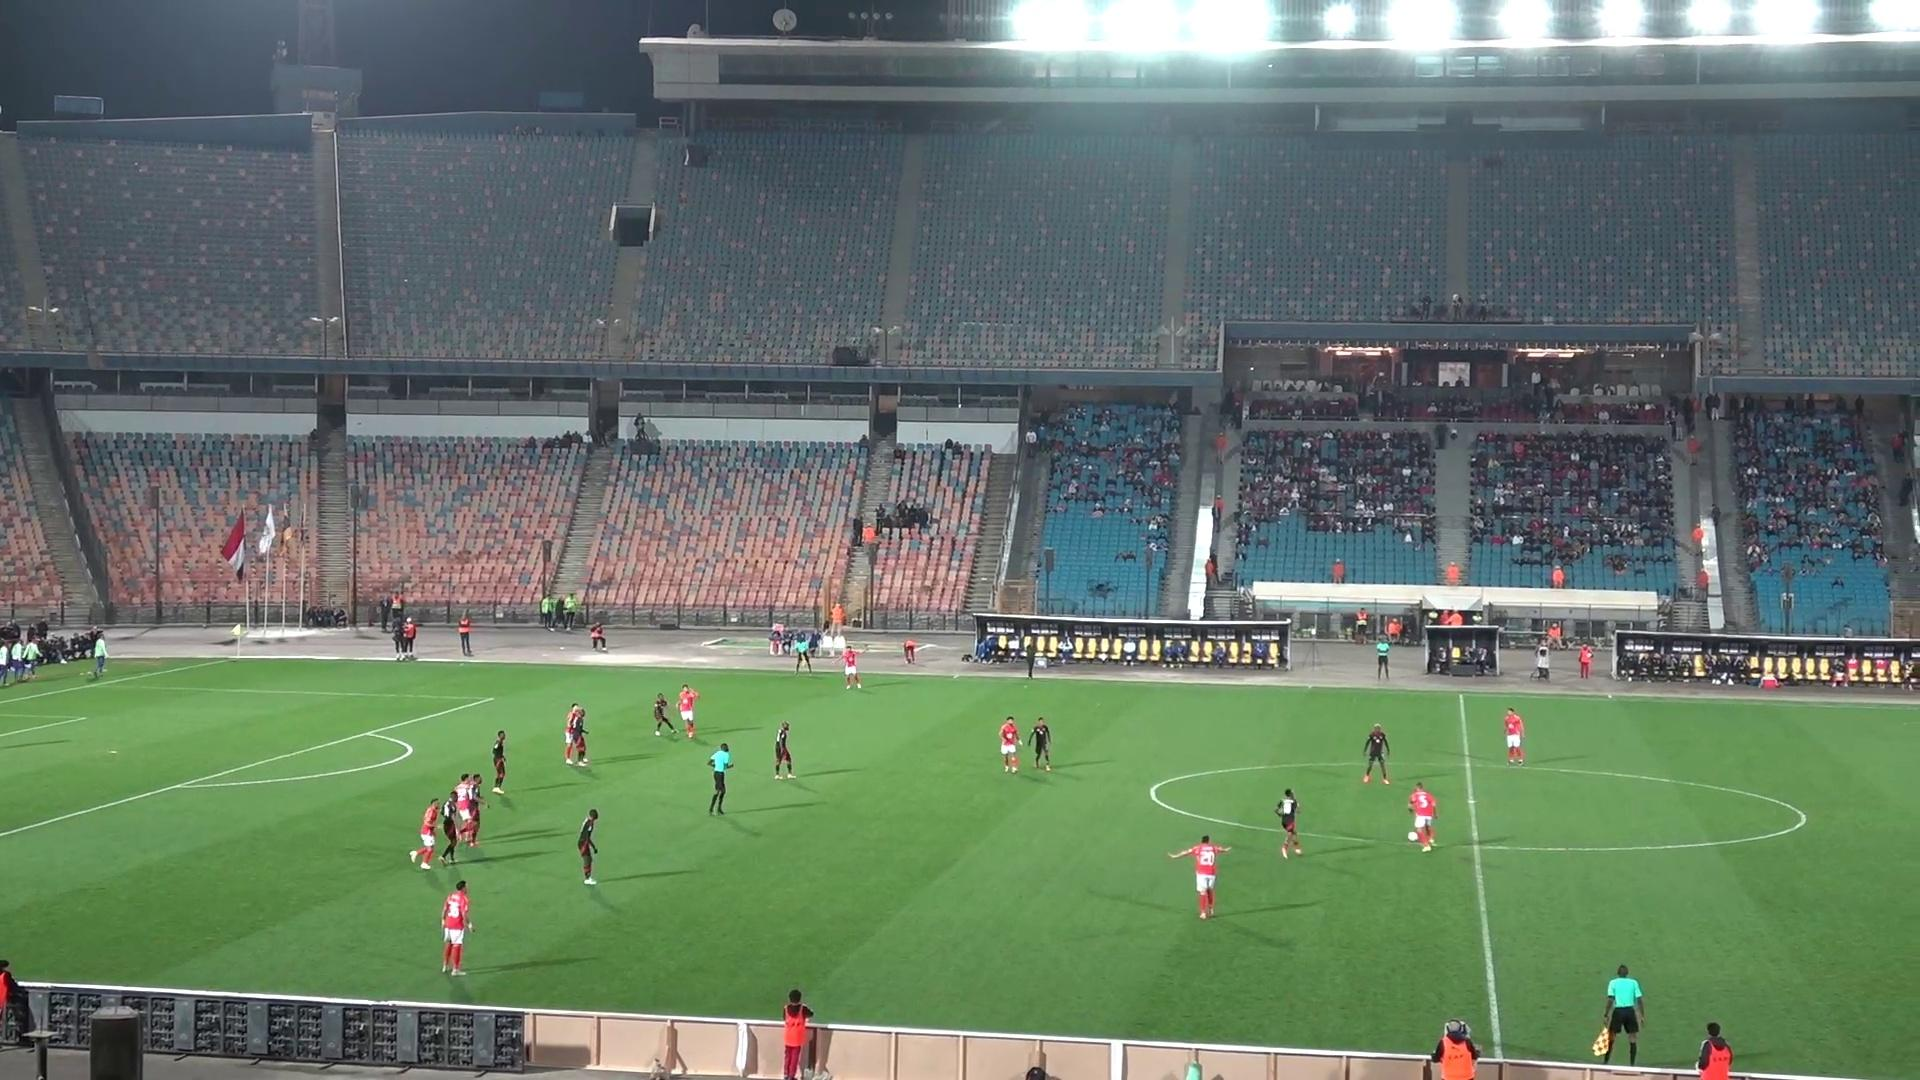Ball: (1406, 824, 1422, 847)
Refree: (1592, 965, 1644, 1065), (707, 742, 733, 814), (791, 629, 818, 669), (1375, 632, 1391, 680)
Team1: (1168, 836, 1225, 920), (440, 880, 471, 975), (407, 799, 443, 870), (452, 773, 480, 845), (1408, 782, 1435, 851), (1502, 707, 1526, 765), (998, 715, 1021, 773), (564, 703, 584, 766), (676, 684, 698, 738), (840, 642, 862, 688)
Team2: (575, 808, 600, 886), (1274, 789, 1302, 858), (1361, 725, 1391, 783), (566, 704, 591, 767), (463, 773, 484, 847), (440, 789, 462, 862), (1025, 717, 1052, 770), (773, 721, 794, 779), (491, 729, 508, 795), (653, 694, 678, 735)
